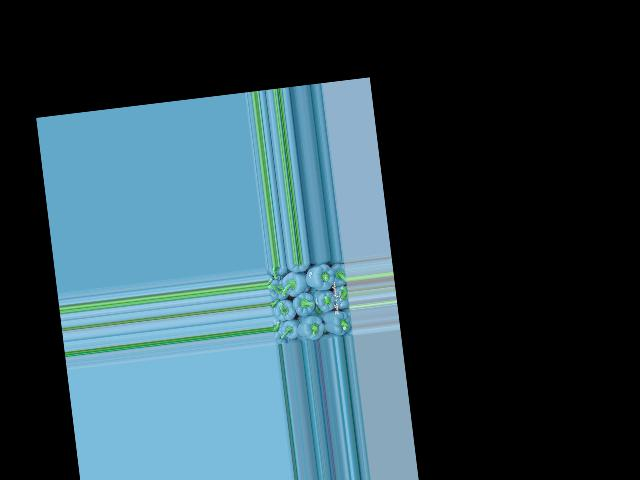bell_pepper: (328, 260, 347, 288)
